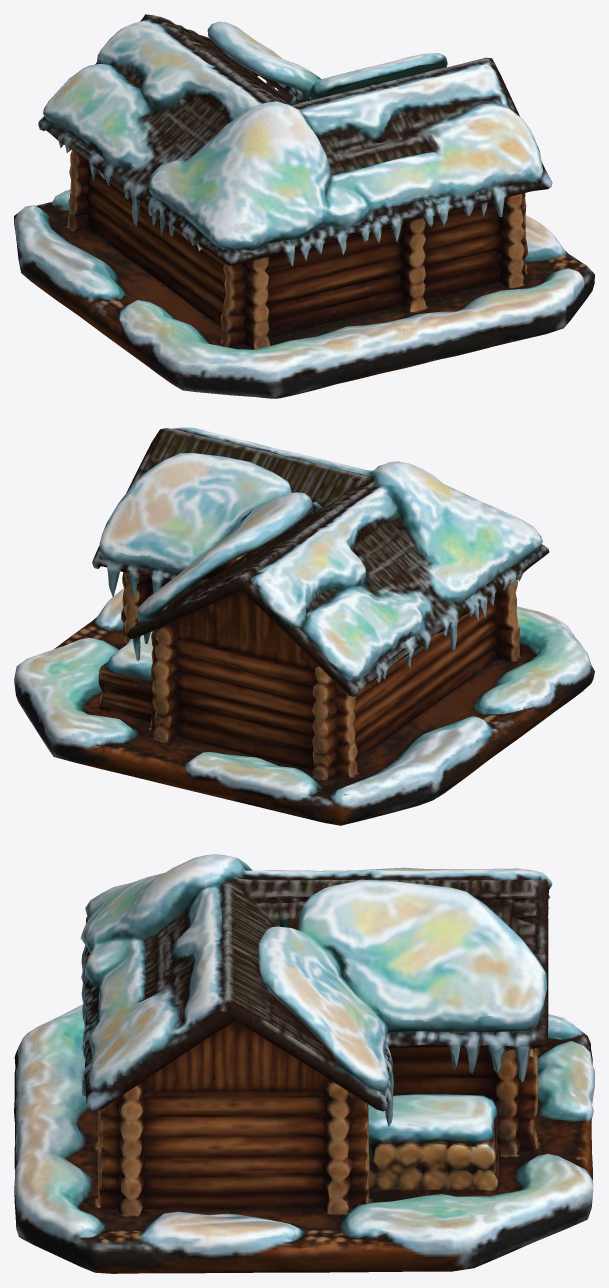
Rendered from village_snow_a.glb.
3 renders of one model, top to bottom at view 1: azimuth 30°, elevation 25°; view 2: azimuth 150°, elevation 25°; view 3: azimuth 270°, elevation 25°, orthographic. The views are drawn at different scales.
Parts seen in each view (by area): view 1: world; view 2: world; view 3: world.
Boxes of the visible parts, x1,y1,x2,y2 form: world: (14, 14, 594, 398); world: (14, 427, 594, 825); world: (14, 854, 594, 1273).
Bounding box in the file's own units: 1 × 0.4922 × 1.
1 material, 1 textured.
